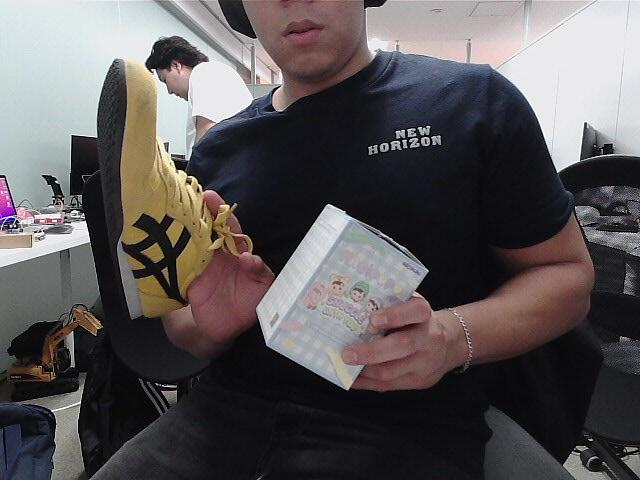Blind_box: (259, 208, 428, 390)
Shoes: (95, 47, 217, 320)
